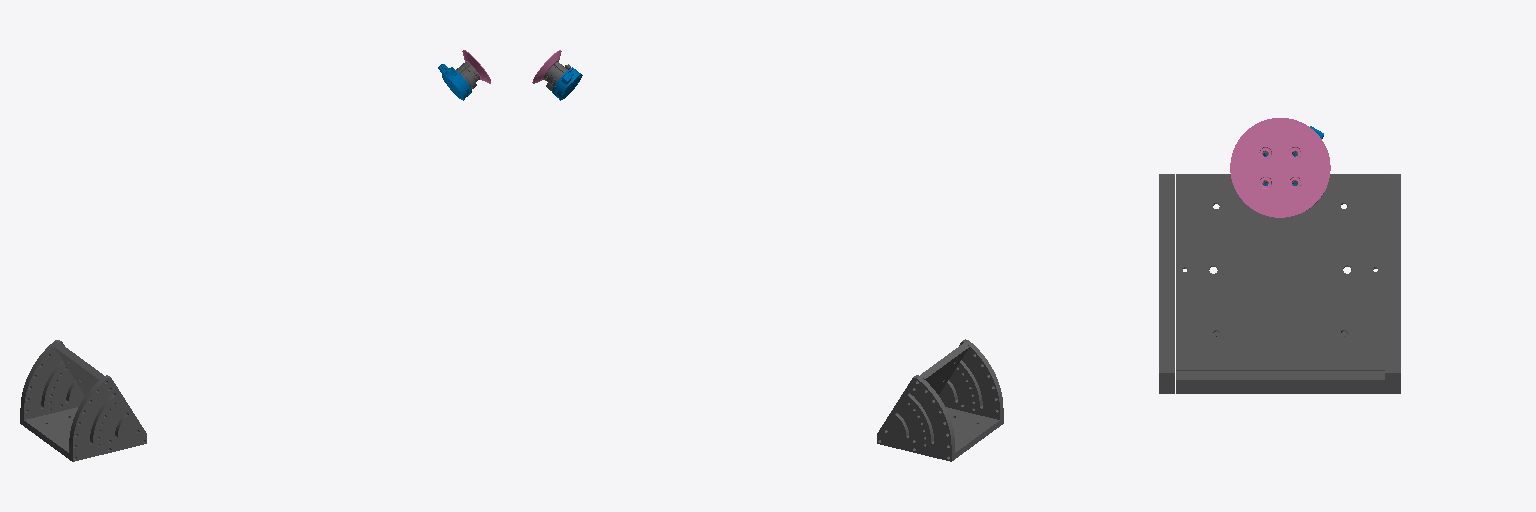
robot.urdf — iiwa14:
<?xml version="1.0" encoding="utf-8"?>
<!-- =================================================================================== -->
<!-- |    This document was autogenerated by xacro from iiwa14.urdf.xacro              | -->
<!-- |    EDITING THIS FILE BY HAND IS NOT RECOMMENDED                                 | -->
<!-- =================================================================================== -->
<robot name="iiwa14">
  <material name="Black">
    <color rgba="0.0 0.0 0.0 1.0"/>
  </material>
  <material name="Blue">
    <color rgba="0.0 0.0 0.8 1.0"/>
  </material>
  <material name="Green">
    <color rgba="0.0 0.8 0.0 1.0"/>
  </material>
  <material name="Grey">
    <color rgba="0.4 0.4 0.4 1.0"/>
  </material>
  <material name="Orange">
    <color rgba="1.0 0.423529411765 0.0392156862745 1.0"/>
  </material>
  <material name="Brown">
    <color rgba="0.870588235294 0.811764705882 0.764705882353 1.0"/>
  </material>
  <material name="Red">
    <color rgba="0.8 0.0 0.0 1.0"/>
  </material>
  <material name="White">
    <color rgba="1.0 1.0 1.0 1.0"/>
  </material>
  <!-- Fix to world just for testing -->
  <link name="robot_base">
    <inertial>
      <mass value="0"/>
      <inertia ixx="0.0" ixy="0" ixz="0" iyy="0.0" iyz="0" izz="0.0"/>
    </inertial>
    <visual>
      <origin rpy="0 0 -1.57" xyz="0 0 0"/>
      <geometry>
        <mesh filename="package://ros_pybullet_interface/robots/kuka_iiwa/meshes/iiwa14/visual/base-Model.stl" scale="0.001 0.001 0.001"/>
      </geometry>
      <material name="Grey"/>
    </visual>
  </link>
  <!-- hinge connection between world and robot -->
  <joint name="world_hinge_joint" type="fixed">
    <origin rpy="0 0 0" xyz="0.090 0 0.045"/>
    <parent link="robot_base"/>
    <child link="iiwa_world_hinge"/>
  </joint>
  <link name="iiwa_world_hinge">
    <inertial>
      <mass value="0"/>
      <inertia ixx="0.0" ixy="0" ixz="0" iyy="0.0" iyz="0" izz="0.0"/>
    </inertial>
  </link>
  <joint name="base_hinge_joint" type="fixed">
      <!--
          Table with possible orientations:
          10 deg - 0.1745 rad
          20 deg - 0.3491 rad
          30 deg - 0.5236 rad
          40 deg - 0.6981 rad
          50 deg - 0.8727 rad
          60 deg - 1.0472 rad
          Change the second angle of rpy:
      -->
    <origin rpy="0 1.0472 0" xyz="0 0 0"/>
    <parent link="iiwa_world_hinge"/>
    <child link="iiwa_link_0_hinge"/>
  </joint>
  <link name="iiwa_link_0_hinge">
    <inertial>
      <mass value="0"/>
      <inertia ixx="0.0" ixy="0" ixz="0" iyy="0.0" iyz="0" izz="0.0"/>
    </inertial>
  </link>
  <!-- joint between {parent} and link_0 -->
  <joint name="iiwa_link_0_hinge" type="fixed">
    <origin rpy="0 0 0" xyz="-0.095 0 0.010"/>
    <parent link="iiwa_link_0_hinge"/>
    <child link="iiwa_link_0"/>
  </joint>
  <link name="iiwa_link_0">
    <inertial>
      <origin rpy="0 0 0" xyz="-0.1 0 0.07"/>
      <mass value="5"/>
      <inertia ixx="0.05" ixy="0" ixz="0" iyy="0.06" iyz="0" izz="0.03"/>
    </inertial>
    <visual>
      <origin rpy="0 0 0" xyz="0 0 0"/>
      <geometry>
        <mesh filename="package://ros_pybullet_interface/robots/kuka_iiwa/meshes/iiwa14/visual/link_0.stl"/>
      </geometry>
      <material name="Grey"/>
    </visual>
    <visual>
      <origin rpy="0 0 -1.57" xyz="0 0 -0.02"/>
      <geometry>
        <mesh filename="package://ros_pybullet_interface/robots/kuka_iiwa/meshes/iiwa14/visual/plate-Model.stl" scale="0.001 0.001 0.001"/>
      </geometry>
      <material name="Grey"/>
    </visual>
    <collision>
      <origin rpy="0 0 0" xyz="0 0 0"/>
      <geometry>
        <mesh filename="package://ros_pybullet_interface/robots/kuka_iiwa/meshes/iiwa14/collision/link_0.stl"/>
      </geometry>
      <material name="Grey"/>
    </collision>
    <self_collision_checking>
      <origin rpy="0 0 0" xyz="0 0 0"/>
      <geometry>
        <capsule length="0.25" radius="0.15"/>
      </geometry>
    </self_collision_checking>
  </link>
  <!-- joint between link_0 and link_1 -->
  <joint name="iiwa_joint_1" type="revolute">
    <parent link="iiwa_link_0"/>
    <child link="iiwa_link_1"/>
    <origin rpy="0 0 0" xyz="0 0 0.1575"/>
    <axis xyz="0 0 1"/>
    <limit effort="300" lower="-2.96705972839" upper="2.96705972839" velocity="10"/>
    <safety_controller k_position="100" k_velocity="2" soft_lower_limit="-2.93215314335" soft_upper_limit="2.93215314335"/>
    <dynamics damping="0.5"/>
  </joint>
  <link name="iiwa_link_1">
    <inertial>
      <origin rpy="0 0 0" xyz="0 -0.03 0.12"/>
      <mass value="4"/>
      <inertia ixx="0.1" ixy="0" ixz="0" iyy="0.09" iyz="0" izz="0.02"/>
    </inertial>
    <visual>
      <origin rpy="0 0 0" xyz="0 0 0"/>
      <geometry>
        <mesh filename="package://ros_pybullet_interface/robots/kuka_iiwa/meshes/iiwa14/visual/link_1.stl"/>
      </geometry>
      <material name="Orange"/>
    </visual>
    <collision>
      <origin rpy="0 0 0" xyz="0 0 0"/>
      <geometry>
        <mesh filename="package://ros_pybullet_interface/robots/kuka_iiwa/meshes/iiwa14/collision/link_1.stl"/>
      </geometry>
      <material name="Orange"/>
    </collision>
  </link>
  <!-- joint between link_1 and link_2 -->
  <joint name="iiwa_joint_2" type="revolute">
    <parent link="iiwa_link_1"/>
    <child link="iiwa_link_2"/>
    <origin rpy="1.57079632679   0 3.14159265359" xyz="0 0 0.2025"/>
    <axis xyz="0 0 1"/>
    <limit effort="300" lower="-2.09439510239" upper="2.09439510239" velocity="10"/>
    <safety_controller k_position="100" k_velocity="2" soft_lower_limit="-2.05948851735" soft_upper_limit="2.05948851735"/>
    <dynamics damping="0.5"/>
  </joint>
  <link name="iiwa_link_2">
    <inertial>
      <origin rpy="0 0 0" xyz="0.0003 0.059 0.042"/>
      <mass value="4"/>
      <inertia ixx="0.05" ixy="0" ixz="0" iyy="0.018" iyz="0" izz="0.044"/>
    </inertial>
    <visual>
      <origin rpy="0 0 0" xyz="0 0 0"/>
      <geometry>
        <mesh filename="package://ros_pybullet_interface/robots/kuka_iiwa/meshes/iiwa14/visual/link_2.stl"/>
      </geometry>
      <material name="Orange"/>
    </visual>
    <collision>
      <origin rpy="0 0 0" xyz="0 0 0"/>
      <geometry>
        <mesh filename="package://ros_pybullet_interface/robots/kuka_iiwa/meshes/iiwa14/collision/link_2.stl"/>
      </geometry>
      <material name="Orange"/>
    </collision>
  </link>
  <!-- joint between link_2 and link_3 -->
  <joint name="iiwa_joint_3" type="revolute">
    <parent link="iiwa_link_2"/>
    <child link="iiwa_link_3"/>
    <origin rpy="1.57079632679 0 3.14159265359" xyz="0 0.2045 0"/>
    <axis xyz="0 0 1"/>
    <limit effort="300" lower="-2.96705972839" upper="2.96705972839" velocity="10"/>
    <safety_controller k_position="100" k_velocity="2" soft_lower_limit="-2.93215314335" soft_upper_limit="2.93215314335"/>
    <dynamics damping="0.5"/>
  </joint>
  <link name="iiwa_link_3">
    <inertial>
      <origin rpy="0 0 0" xyz="0 0.03 0.13"/>
      <mass value="3"/>
      <inertia ixx="0.08" ixy="0" ixz="0" iyy="0.075" iyz="0" izz="0.01"/>
    </inertial>
    <visual>
      <origin rpy="0 0 0" xyz="0 0 0"/>
      <geometry>
        <mesh filename="package://ros_pybullet_interface/robots/kuka_iiwa/meshes/iiwa14/visual/link_3.stl"/>
      </geometry>
      <material name="Orange"/>
    </visual>
    <collision>
      <origin rpy="0 0 0" xyz="0 0 0"/>
      <geometry>
        <mesh filename="package://ros_pybullet_interface/robots/kuka_iiwa/meshes/iiwa14/collision/link_3.stl"/>
      </geometry>
      <material name="Orange"/>
    </collision>
  </link>
  <!-- joint between link_3 and link_4 -->
  <joint name="iiwa_joint_4" type="revolute">
    <parent link="iiwa_link_3"/>
    <child link="iiwa_link_4"/>
    <origin rpy="1.57079632679 0 0" xyz="0 0 0.2155"/>
    <axis xyz="0 0 1"/>
    <limit effort="300" lower="-2.09439510239" upper="2.09439510239" velocity="10"/>
    <safety_controller k_position="100" k_velocity="2" soft_lower_limit="-2.05948851735" soft_upper_limit="2.05948851735"/>
    <dynamics damping="0.5"/>
  </joint>
  <link name="iiwa_link_4">
    <inertial>
      <origin rpy="0 0 0" xyz="0 0.067 0.034"/>
      <mass value="2.7"/>
      <inertia ixx="0.03" ixy="0" ixz="0" iyy="0.01" iyz="0" izz="0.029"/>
    </inertial>
    <visual>
      <origin rpy="0 0 0" xyz="0 0 0"/>
      <geometry>
        <mesh filename="package://ros_pybullet_interface/robots/kuka_iiwa/meshes/iiwa14/visual/link_4.stl"/>
      </geometry>
      <material name="Orange"/>
    </visual>
    <collision>
      <origin rpy="0 0 0" xyz="0 0 0"/>
      <geometry>
        <mesh filename="package://ros_pybullet_interface/robots/kuka_iiwa/meshes/iiwa14/collision/link_4.stl"/>
      </geometry>
      <material name="Orange"/>
    </collision>
  </link>
  <!-- joint between link_4 and link_5 -->
  <joint name="iiwa_joint_5" type="revolute">
    <parent link="iiwa_link_4"/>
    <child link="iiwa_link_5"/>
    <origin rpy="-1.57079632679 3.14159265359 0" xyz="0 0.1845 0"/>
    <axis xyz="0 0 1"/>
    <limit effort="300" lower="-2.96705972839" upper="2.96705972839" velocity="10"/>
    <safety_controller k_position="100" k_velocity="2" soft_lower_limit="-2.93215314335" soft_upper_limit="2.93215314335"/>
    <dynamics damping="0.5"/>
  </joint>
  <link name="iiwa_link_5">
    <inertial>
      <origin rpy="0 0 0" xyz="0.0001 0.021 0.076"/>
      <mass value="1.7"/>
      <inertia ixx="0.02" ixy="0" ixz="0" iyy="0.018" iyz="0" izz="0.005"/>
    </inertial>
    <visual>
      <origin rpy="0 0 0" xyz="0 0 0"/>
      <geometry>
        <mesh filename="package://ros_pybullet_interface/robots/kuka_iiwa/meshes/iiwa14/visual/link_5.stl"/>
      </geometry>
      <material name="Orange"/>
    </visual>
    <collision>
      <origin rpy="0 0 0" xyz="0 0 0"/>
      <geometry>
        <mesh filename="package://ros_pybullet_interface/robots/kuka_iiwa/meshes/iiwa14/collision/link_5.stl"/>
      </geometry>
      <material name="Orange"/>
    </collision>
  </link>
  <!-- joint between link_5 and link_6 -->
  <joint name="iiwa_joint_6" type="revolute">
    <parent link="iiwa_link_5"/>
    <child link="iiwa_link_6"/>
    <origin rpy="1.57079632679 0 0" xyz="0 0 0.2155"/>
    <axis xyz="0 0 1"/>
    <limit effort="300" lower="-2.09439510239" upper="2.09439510239" velocity="10"/>
    <safety_controller k_position="100" k_velocity="2" soft_lower_limit="-2.05948851735" soft_upper_limit="2.05948851735"/>
    <dynamics damping="0.5"/>
  </joint>
  <link name="iiwa_link_6">
    <inertial>
      <origin rpy="0 0 0" xyz="0 0.0006 0.0004"/>
      <mass value="1.8"/>
      <inertia ixx="0.005" ixy="0" ixz="0" iyy="0.0036" iyz="0" izz="0.0047"/>
    </inertial>
    <visual>
      <origin rpy="0 0 0" xyz="0 0 0"/>
      <geometry>
        <mesh filename="package://ros_pybullet_interface/robots/kuka_iiwa/meshes/iiwa14/visual/link_6.stl"/>
      </geometry>
      <material name="Orange"/>
    </visual>
    <collision>
      <origin rpy="0 0 0" xyz="0 0 0"/>
      <geometry>
        <mesh filename="package://ros_pybullet_interface/robots/kuka_iiwa/meshes/iiwa14/collision/link_6.stl"/>
      </geometry>
      <material name="Orange"/>
    </collision>
  </link>
  <!-- joint between link_6 and link_7 -->
  <joint name="iiwa_joint_7" type="revolute">
    <parent link="iiwa_link_6"/>
    <child link="iiwa_link_7"/>
    <origin rpy="-1.57079632679 3.14159265359 0" xyz="0 0.081 0"/>
    <axis xyz="0 0 1"/>
    <limit effort="300" lower="-3.05432619099" upper="3.05432619099" velocity="10"/>
    <safety_controller k_position="100" k_velocity="2" soft_lower_limit="-3.01941960595" soft_upper_limit="3.01941960595"/>
    <dynamics damping="0.5"/>
  </joint>
  <link name="iiwa_link_7">
    <inertial>
      <origin rpy="0 0 0" xyz="0 0 0.02"/>
      <mass value="0.3"/>
      <inertia ixx="0.001" ixy="0" ixz="0" iyy="0.001" iyz="0" izz="0.001"/>
    </inertial>
    <visual>
      <origin rpy="0 0 0" xyz="0 0 0"/>
      <geometry>
        <mesh filename="package://ros_pybullet_interface/robots/kuka_iiwa/meshes/iiwa14/visual/link_7.stl"/>
      </geometry>
      <material name="Grey"/>
    </visual>
    <collision>
      <origin rpy="0 0 0" xyz="0 0 0"/>
      <geometry>
        <mesh filename="package://ros_pybullet_interface/robots/kuka_iiwa/meshes/iiwa14/collision/link_7.stl"/>
      </geometry>
      <material name="Grey"/>
    </collision>
  </link>
  <joint name="iiwa_joint_ee" type="fixed">
    <parent link="iiwa_link_7"/>
    <child link="iiwa_link_ee"/>
    <origin rpy="0 0 0" xyz="0 0 0.045"/>
  </joint>
  <link name="iiwa_link_ee">
    <inertial>
        <mass value="0.000001"/>
        <origin xyz="0 0 0"/>
        <inertia ixx="0.0000001" ixy="0.000000" ixz="0.000000" iyy="0.0000001" iyz="0.000000" izz="0.0000001"/>
    </inertial>
    </link>
    <joint name="iiwa_joint_ft" type="fixed">
        <parent link="iiwa_link_ee"/>
        <child link="force_torque_sensor"/>
        <origin rpy="0 0 1.57" xyz="0 0 0"/>
    </joint>
    <link name="force_torque_sensor">
        <inertial>
            <mass value="0.5"/>
            <origin xyz="0 0 0"/>
            <inertia ixx="0.0333333333333" ixy="0" ixz="0" iyy="0.0333333333333" iyz="0" izz="0.0333333333333"/>
        </inertial>
        <visual>
            <origin rpy="0 3.14 0" xyz="0 0 0.005"/>
            <material name="Silver"/>
            <geometry>
                <mesh filename="package://ros_pybullet_interface/robots/kuka_iiwa/meshes/iiwa14/visual/ATI-Delta_simplified.stl" scale="0.001 0.001 0.001"/>
            </geometry>
        </visual>
    </link>
    <joint name="end_effector_joint" type="fixed">
        <origin rpy="0 0 0.0" xyz="0 0 0.033"/>
        <parent link="force_torque_sensor"/>
        <child link="adapter"/>
    </joint>
    <link name="adapter">
        <inertial>
            <mass value="1"/>
            <origin xyz="0 0 0"/>
            <inertia ixx="0.00409836" ixy="0.000000" ixz="0.000000" iyy="0.00061475" iyz="0.000000" izz="0.00409836"/>
        </inertial>
        <visual>
            <origin rpy="0 -1.57 3.14" xyz="0 0 0"/>
            <material name="Grey"/>
            <geometry>
                <mesh filename="package://ros_pybullet_interface/robots/kuka_iiwa/meshes/iiwa14/visual/schunk_adapter-Assembly_simplified.stl" scale="0.001 0.001 0.001"/>
            </geometry>
        </visual>
    </link>
    <joint name="end_effector_joint_sponge" type="fixed">
        <origin rpy="0 0 0.0" xyz="0 0 0.058"/>   <!--0.078-->
        <parent link="adapter"/>
        <child link="end_effector_sponge"/>
    </joint>
    <link name="end_effector_sponge">
        <inertial>
            <mass value="1"/>
            <origin xyz="-0.000007 0.001524 0.027591"/>
            <inertia ixx="0.00409836" ixy="0.000000" ixz="0.000000" iyy="0.00061475" iyz="0.000000" izz="0.00409836"/>
        </inertial>
        <visual>
            <origin rpy="0 0 0" xyz="0 0 0"/>
            <geometry>
                <mesh filename="package://ros_pybullet_interface/robots/kuka_iiwa/meshes/iiwa14/visual/adaptor_endeffector-Body_simplified.stl" scale="0.001 0.001 0.001"/>
            </geometry>
            <material name="Silver"/>
        </visual>
        <collision>
            <origin rpy="0 0 0" xyz="0 0 0"/>
            <geometry>
                <mesh filename="package://ros_pybullet_interface/robots/kuka_iiwa/meshes/iiwa14/visual/adaptor_endeffector-Body_simplified.stl" scale="0.001 0.001 0.001"/>
            </geometry>
        </collision>
    </link>
  <!-- Enable the Joint Feedback -->
  <gazebo reference="iiwa_joint_7">
    <provideFeedback>true</provideFeedback>
  </gazebo>
  <!-- The ft_sensor plugin -->
  <gazebo>
    <plugin filename="libgazebo_ros_ft_sensor.so" name="ft_sensor">
      <updateRate>50.0</updateRate>
      <topicName>/iiwa/state/CartesianWrench</topicName>
      <jointName>iiwa_joint_7</jointName>
    </plugin>
  </gazebo>
  <!-- Load Gazebo lib and set the robot namespace -->
  <gazebo>
    <plugin filename="libgazebo_ros_control.so" name="gazebo_ros_control">
      <robotNamespace>/iiwa</robotNamespace>
    </plugin>
  </gazebo>
  <!-- Link0 -->
  <gazebo reference="iiwa_link_0">
    <material>Gazebo/Grey</material>
    <mu1>0.2</mu1>
    <mu2>0.2</mu2>
  </gazebo>
  <!-- Link1 -->
  <gazebo reference="iiwa_link_1">
    <material>Gazebo/Orange</material>
    <mu1>0.2</mu1>
    <mu2>0.2</mu2>
  </gazebo>
  <!-- Link2 -->
  <gazebo reference="iiwa_link_2">
    <material>Gazebo/Orange</material>
    <mu1>0.2</mu1>
    <mu2>0.2</mu2>
  </gazebo>
  <!-- Link3 -->
  <gazebo reference="iiwa_link_3">
    <material>Gazebo/Orange</material>
    <mu1>0.2</mu1>
    <mu2>0.2</mu2>
  </gazebo>
  <!-- Link4 -->
  <gazebo reference="iiwa_link_4">
    <material>Gazebo/Orange</material>
    <mu1>0.2</mu1>
    <mu2>0.2</mu2>
  </gazebo>
  <!-- Link5 -->
  <gazebo reference="iiwa_link_5">
    <material>Gazebo/Orange</material>
    <mu1>0.2</mu1>
    <mu2>0.2</mu2>
  </gazebo>
  <!-- Link6 -->
  <gazebo reference="iiwa_link_6">
    <material>Gazebo/Orange</material>
    <mu1>0.2</mu1>
    <mu2>0.2</mu2>
  </gazebo>
  <!-- Link7 -->
  <gazebo reference="iiwa_link_7">
    <material>Gazebo/Grey</material>
    <mu1>0.2</mu1>
    <mu2>0.2</mu2>
  </gazebo>
  <transmission name="iiwa_tran_1">
    <robotNamespace>/iiwa</robotNamespace>
    <type>transmission_interface/SimpleTransmission</type>
    <joint name="iiwa_joint_1">
      <hardwareInterface>hardware_interface/PositionJointInterface</hardwareInterface>
    </joint>
    <actuator name="iiwa_motor_1">
      <hardwareInterface>hardware_interface/PositionJointInterface</hardwareInterface>
      <mechanicalReduction>1</mechanicalReduction>
    </actuator>
  </transmission>
  <transmission name="iiwa_tran_2">
    <robotNamespace>/iiwa</robotNamespace>
    <type>transmission_interface/SimpleTransmission</type>
    <joint name="iiwa_joint_2">
      <hardwareInterface>hardware_interface/PositionJointInterface</hardwareInterface>
    </joint>
    <actuator name="iiwa_motor_2">
      <hardwareInterface>hardware_interface/PositionJointInterface</hardwareInterface>
      <mechanicalReduction>1</mechanicalReduction>
    </actuator>
  </transmission>
  <transmission name="iiwa_tran_3">
    <robotNamespace>/iiwa</robotNamespace>
    <type>transmission_interface/SimpleTransmission</type>
    <joint name="iiwa_joint_3">
      <hardwareInterface>hardware_interface/PositionJointInterface</hardwareInterface>
    </joint>
    <actuator name="iiwa_motor_3">
      <hardwareInterface>hardware_interface/PositionJointInterface</hardwareInterface>
      <mechanicalReduction>1</mechanicalReduction>
    </actuator>
  </transmission>
  <transmission name="iiwa_tran_4">
    <robotNamespace>/iiwa</robotNamespace>
    <type>transmission_interface/SimpleTransmission</type>
    <joint name="iiwa_joint_4">
      <hardwareInterface>hardware_interface/PositionJointInterface</hardwareInterface>
    </joint>
    <actuator name="iiwa_motor_4">
      <hardwareInterface>hardware_interface/PositionJointInterface</hardwareInterface>
      <mechanicalReduction>1</mechanicalReduction>
    </actuator>
  </transmission>
  <transmission name="iiwa_tran_5">
    <robotNamespace>/iiwa</robotNamespace>
    <type>transmission_interface/SimpleTransmission</type>
    <joint name="iiwa_joint_5">
      <hardwareInterface>hardware_interface/PositionJointInterface</hardwareInterface>
    </joint>
    <actuator name="iiwa_motor_5">
      <hardwareInterface>hardware_interface/PositionJointInterface</hardwareInterface>
      <mechanicalReduction>1</mechanicalReduction>
    </actuator>
  </transmission>
  <transmission name="iiwa_tran_6">
    <robotNamespace>/iiwa</robotNamespace>
    <type>transmission_interface/SimpleTransmission</type>
    <joint name="iiwa_joint_6">
      <hardwareInterface>hardware_interface/PositionJointInterface</hardwareInterface>
    </joint>
    <actuator name="iiwa_motor_6">
      <hardwareInterface>hardware_interface/PositionJointInterface</hardwareInterface>
      <mechanicalReduction>1</mechanicalReduction>
    </actuator>
  </transmission>
  <transmission name="iiwa_tran_7">
    <robotNamespace>/iiwa</robotNamespace>
    <type>transmission_interface/SimpleTransmission</type>
    <joint name="iiwa_joint_7">
      <hardwareInterface>hardware_interface/PositionJointInterface</hardwareInterface>
    </joint>
    <actuator name="iiwa_motor_7">
      <hardwareInterface>hardware_interface/PositionJointInterface</hardwareInterface>
      <mechanicalReduction>1</mechanicalReduction>
    </actuator>
  </transmission>
</robot>

--- Render facts (derived) ---
Views: 3 orthographic renders of the robot side by side, from view 1: azimuth 30°, elevation 25°; view 2: azimuth 150°, elevation 25°; view 3: azimuth 270°, elevation 25°.
Robot: iiwa14 — 15 links, 14 joints (7 revolute, 7 fixed); root link robot_base; default pose: every joint at zero.
Links seen in each view (by area): view 1: robot_base, iiwa_link_0, force_torque_sensor; view 2: robot_base, iiwa_link_0, force_torque_sensor; view 3: iiwa_link_0, robot_base, end_effector_sponge.
Boxes of the visible links, x1,y1,x2,y2 form: robot_base: (20, 340, 146, 461); iiwa_link_0: (54, 342, 103, 395); force_torque_sensor: (438, 64, 471, 100); robot_base: (877, 339, 1003, 461); iiwa_link_0: (920, 342, 969, 394); force_torque_sensor: (552, 67, 582, 100); iiwa_link_0: (1176, 174, 1384, 370); robot_base: (1159, 174, 1400, 393); end_effector_sponge: (1230, 118, 1330, 217).
Bounding box of the posed robot: 1.41 × 0.2892 × 0.8827 m (x, y, z).
5 mesh visuals loaded from 13 distinct referenced files (5 binary STL); not drawn: 8 (reference not matched to a file when rendering).